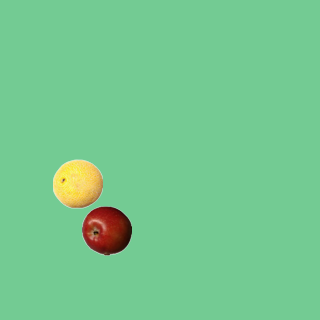Apple Braeburn: (81, 205, 131, 255)
Cantaloupe 1: (52, 158, 102, 208)
